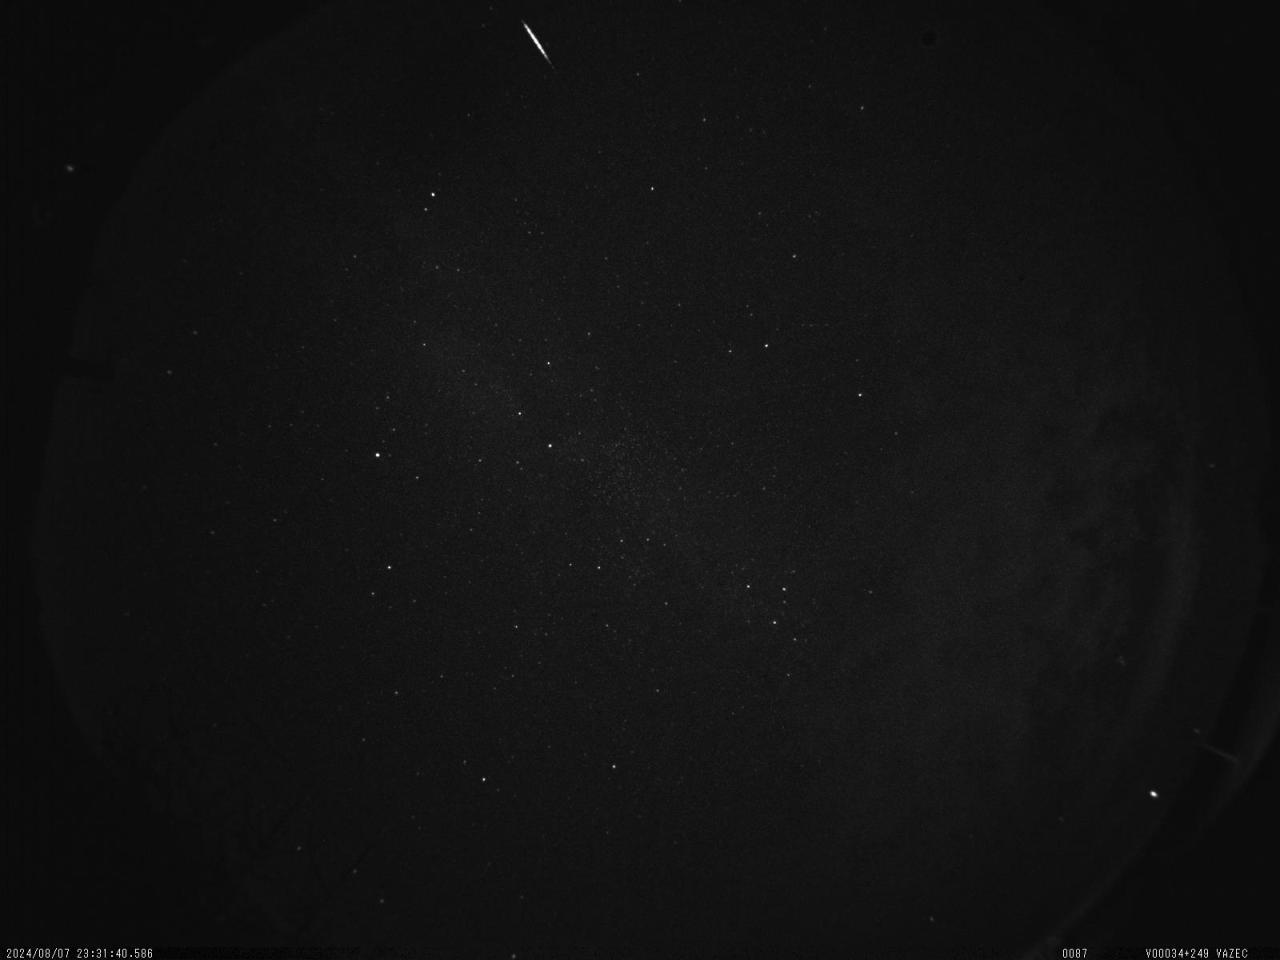Meteor: (518, 18, 556, 68)
